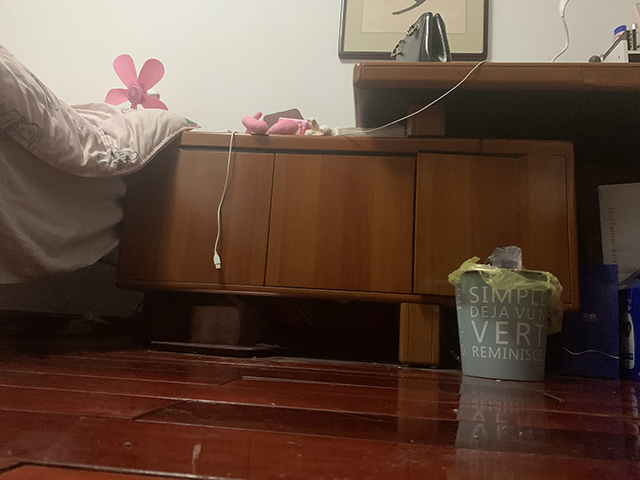bed: (1, 40, 202, 338)
cabinet: (115, 58, 640, 370)
trashcan: (446, 245, 565, 383)
